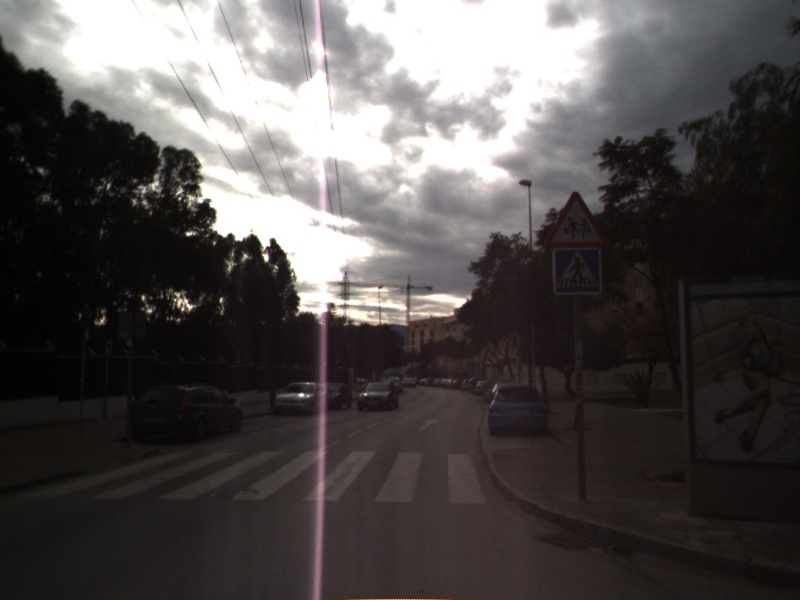STRAIGHT: (415, 416, 443, 433)
